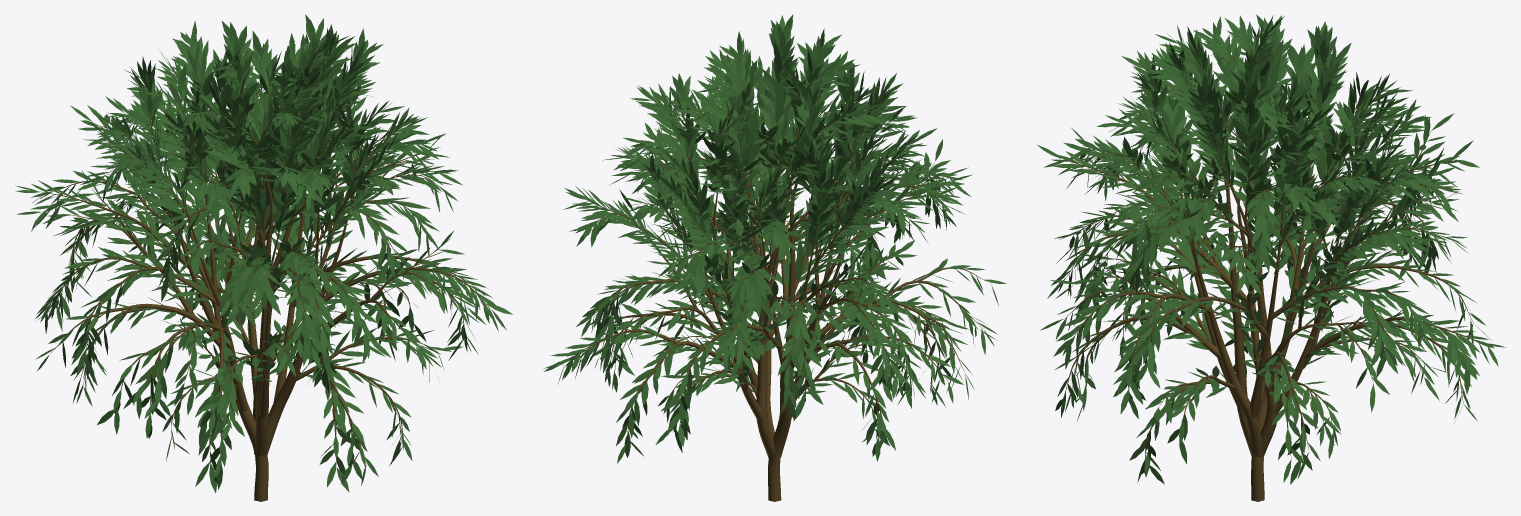
File: tree1-transformed.glb
The picture shows the model from 3 angles, left to right: view 1: azimuth 30°, elevation 25°; view 2: azimuth 150°, elevation 25°; view 3: azimuth 270°, elevation 25°; orthographic projection. The views are drawn at different scales.
Parts seen in each view (by area): view 1: leaves_0, tree_1; view 2: leaves_0, tree_1; view 3: leaves_0, tree_1.
Part boxes in pixels (<box>): leaves_0: <box>15,14,512,493</box>; tree_1: <box>40,52,490,501</box>; leaves_0: <box>543,14,1006,463</box>; tree_1: <box>565,55,990,501</box>; leaves_0: <box>1037,14,1505,484</box>; tree_1: <box>1063,39,1474,501</box>.
Bounding box in the file's own units: 5.78 × 6.82 × 6.05.
